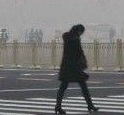person: (54, 21, 102, 115)
